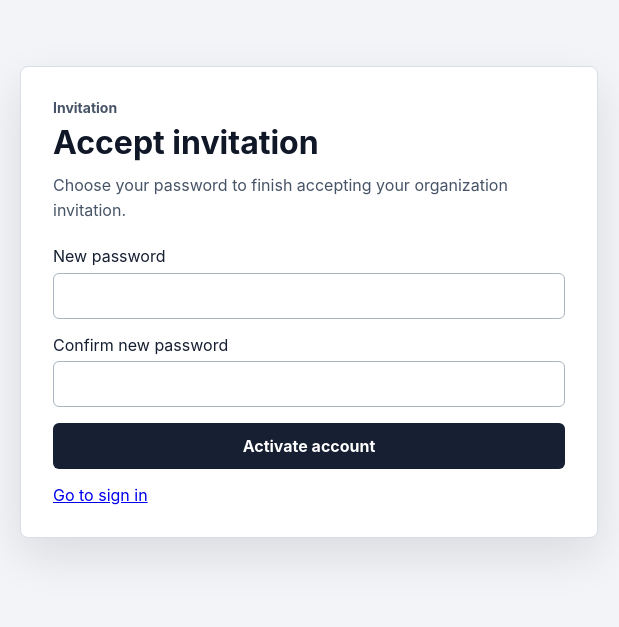
Test: maps backend password validation details to the form
The image size is (619, 627).
Type "StrongPass123!" into the password field labelled "New password". click: (309, 296)
box: [53,273,565,319]
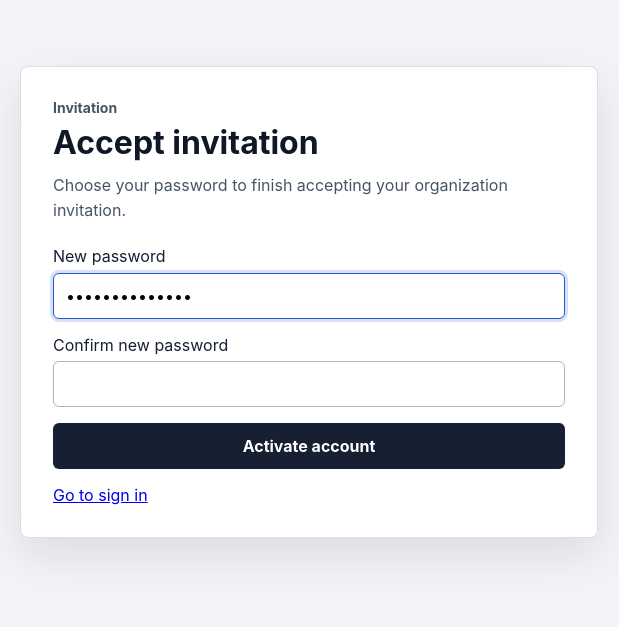
Type "StrongPass123!" into the password field labelled "Confirm new password". click: (309, 384)
box: [53,361,565,407]
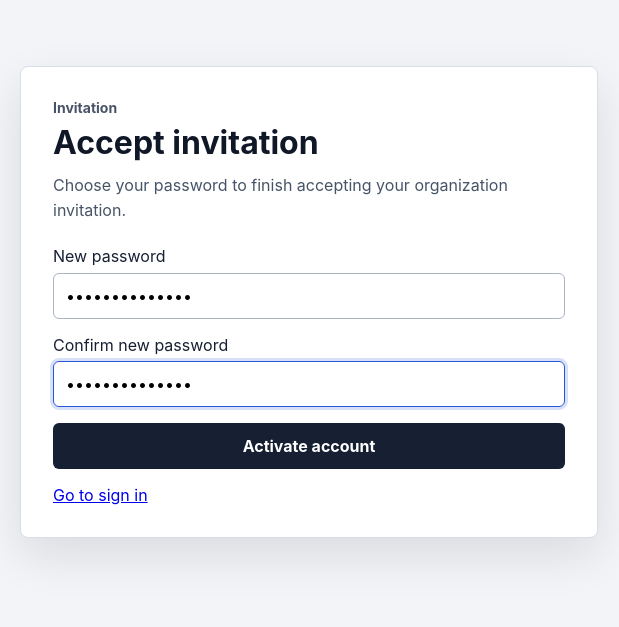
Click the button "Activate account". click: (309, 446)
box: [53,423,565,469]
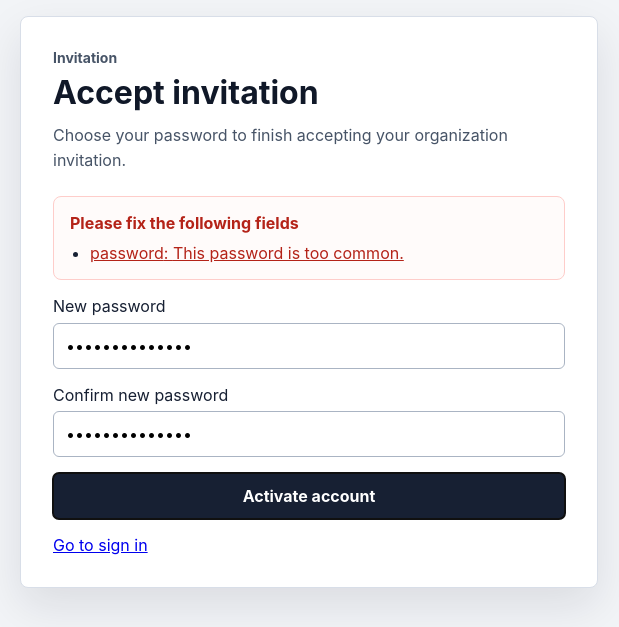
Check: the message shows "This password is too common.", box [90,243,404,263]
